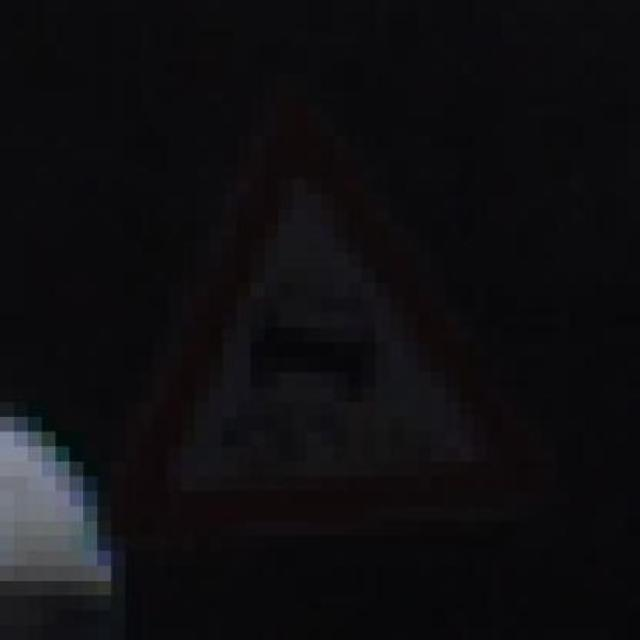Slippery Road Ahead: (111, 104, 543, 581)
